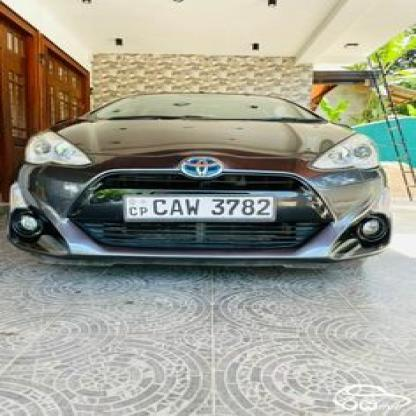car front: (4, 89, 388, 269)
number plate: (127, 196, 276, 220)
